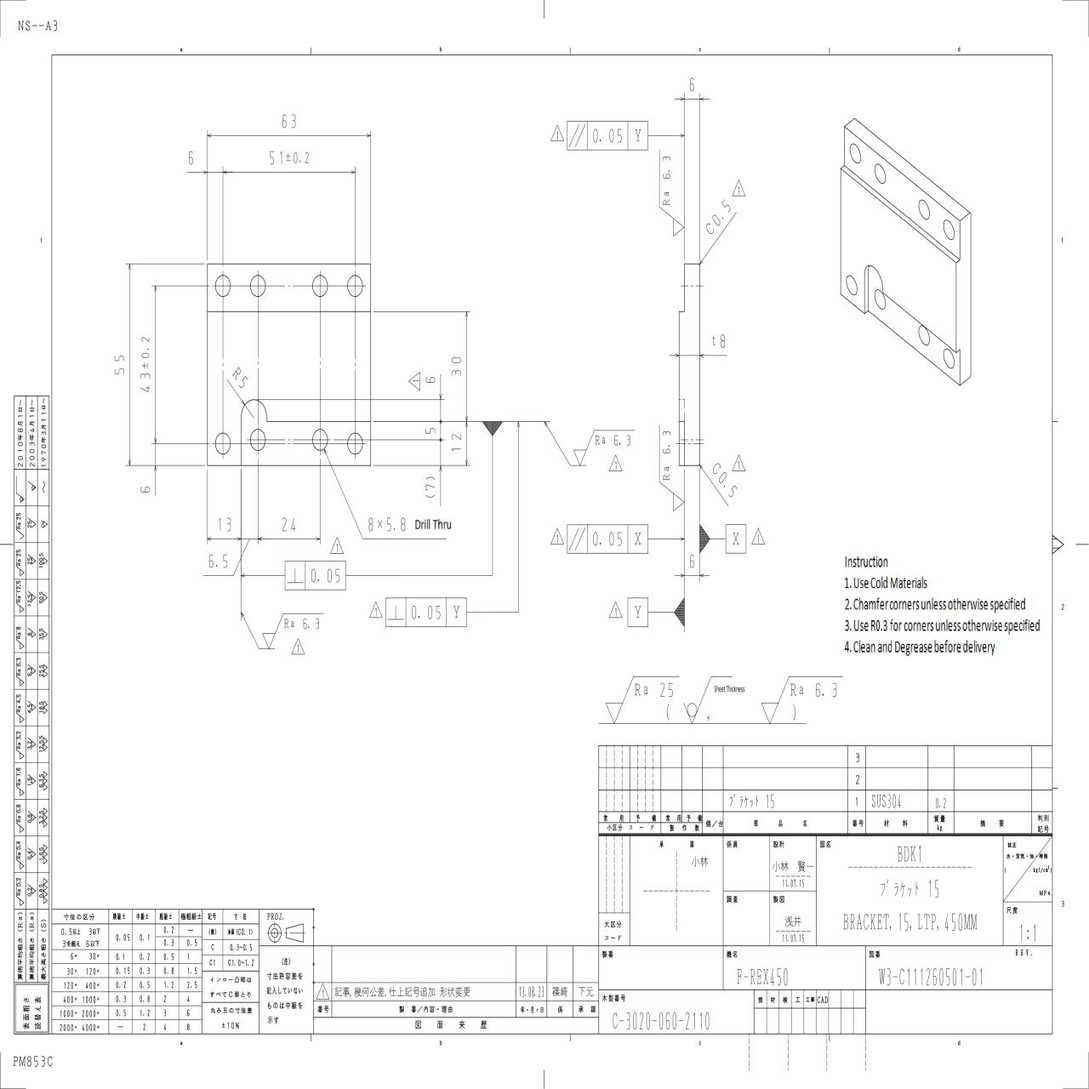basic_dimension: (139, 336, 150, 393), (269, 150, 310, 165), (208, 553, 228, 569), (282, 517, 296, 533), (218, 516, 231, 533), (282, 113, 296, 128), (451, 433, 462, 452), (451, 357, 462, 376), (114, 355, 124, 375), (689, 554, 696, 569), (425, 483, 436, 492), (140, 485, 152, 493), (189, 151, 194, 165), (425, 428, 436, 434), (425, 377, 436, 383), (690, 78, 694, 92)
datum_symbol: (628, 597, 684, 627), (700, 524, 746, 554)
dimension_chamfer_symbol: (704, 199, 732, 238), (711, 461, 738, 499)
dimension_radius_symbol: (232, 366, 248, 390)
dimension_thickness_symbol: (711, 334, 725, 348)
gdt_frame_symbol: (565, 523, 650, 555), (385, 596, 469, 628), (566, 120, 649, 152), (284, 560, 346, 592)
gdt_parallelism_symbol: (569, 124, 586, 147), (569, 527, 585, 551)
gdt_perpendicularity_symbol: (287, 568, 303, 583), (388, 605, 404, 620)
revision_triangle_symbol: (408, 371, 420, 391), (609, 601, 623, 618), (369, 601, 383, 618), (330, 537, 344, 554), (550, 125, 564, 141), (732, 180, 746, 196), (732, 455, 746, 471), (751, 528, 765, 544), (550, 528, 564, 544), (291, 638, 305, 654), (609, 455, 622, 471)
surface_finish_symbol: (761, 676, 843, 725), (605, 676, 679, 724), (573, 429, 635, 467), (262, 613, 324, 651), (659, 149, 685, 237), (659, 425, 685, 512)
